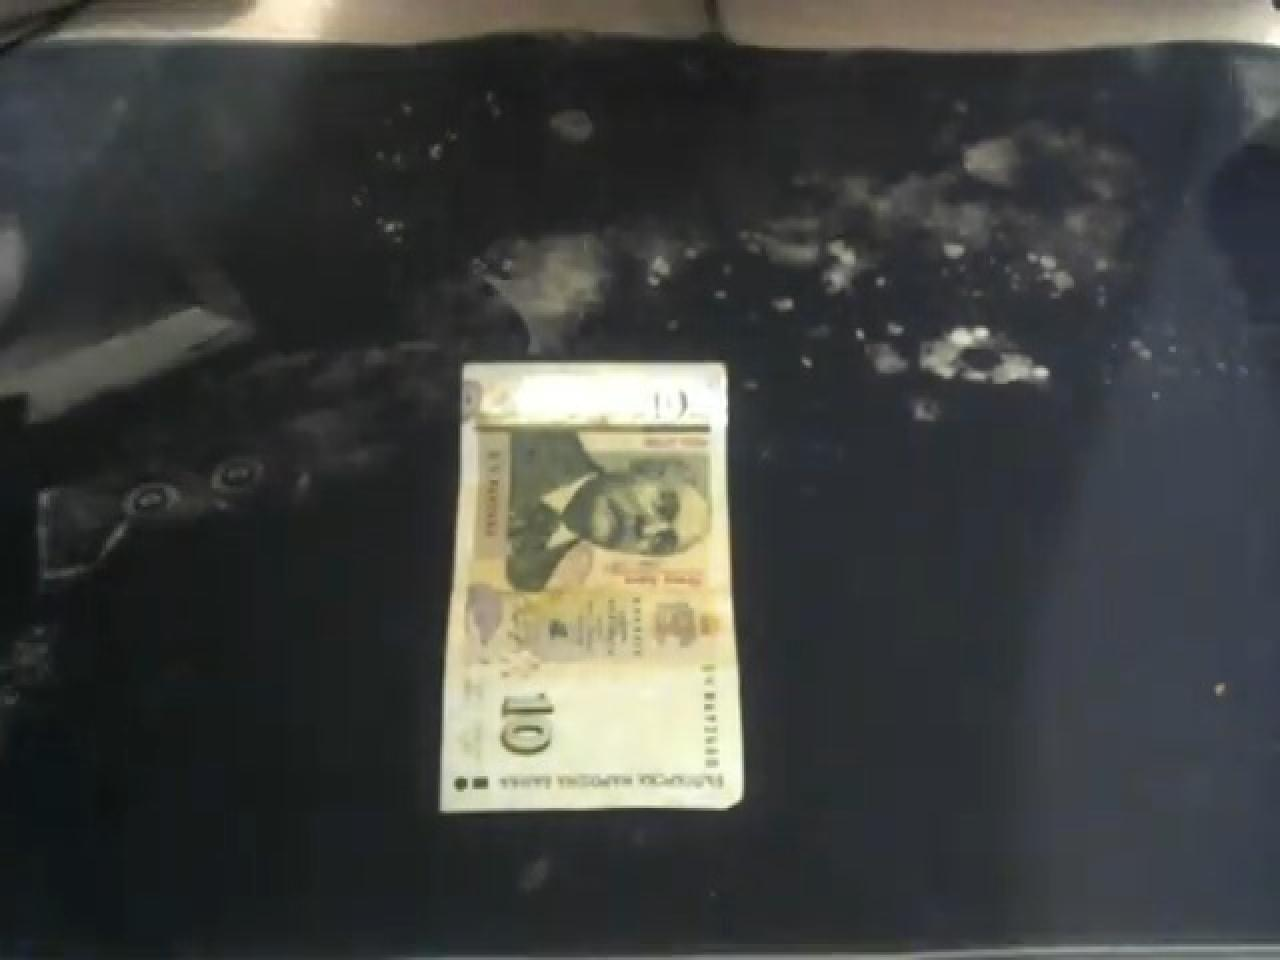10leva: (432, 360, 750, 819)
